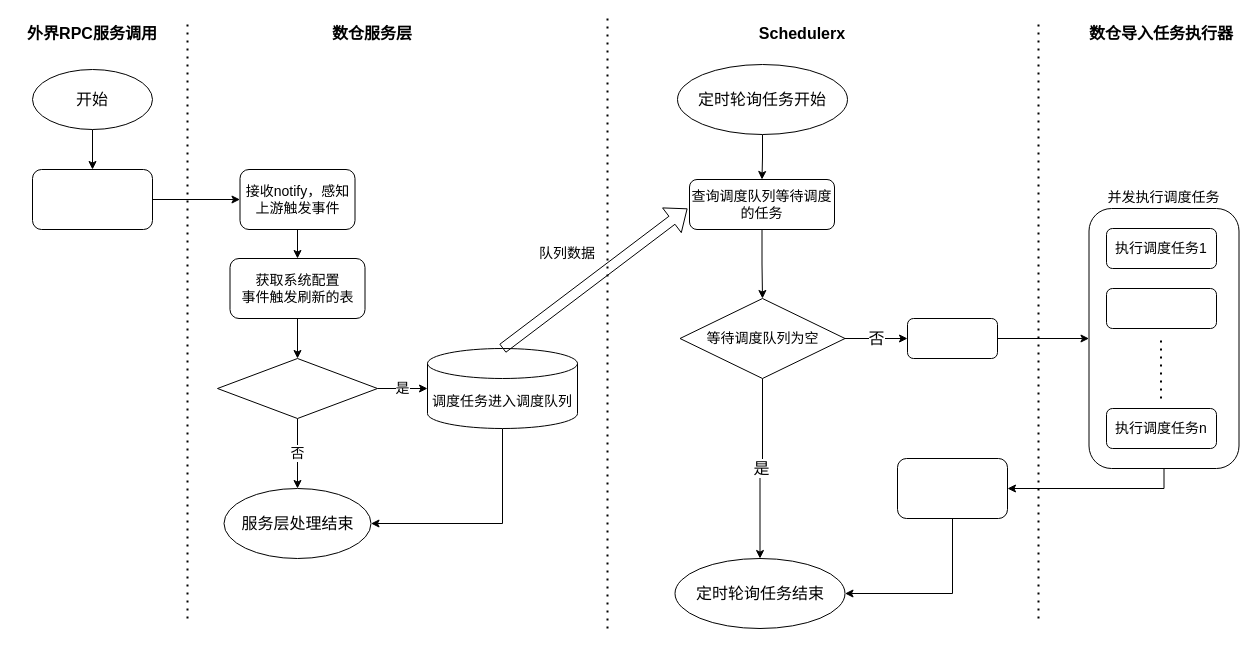
This 1256x647 diagram has some shape labels left out. Here are the shapes that lost their labels. From the top down, the centre of each, then its label:
At [92,199]: "调用notify api".
At [1161,308]: "执行调度任务2".
At [952,338]: "任务调度".
At [297,388]: "能获取匹配的表".
At [952,488]: "队列内所有任务调度完成".
